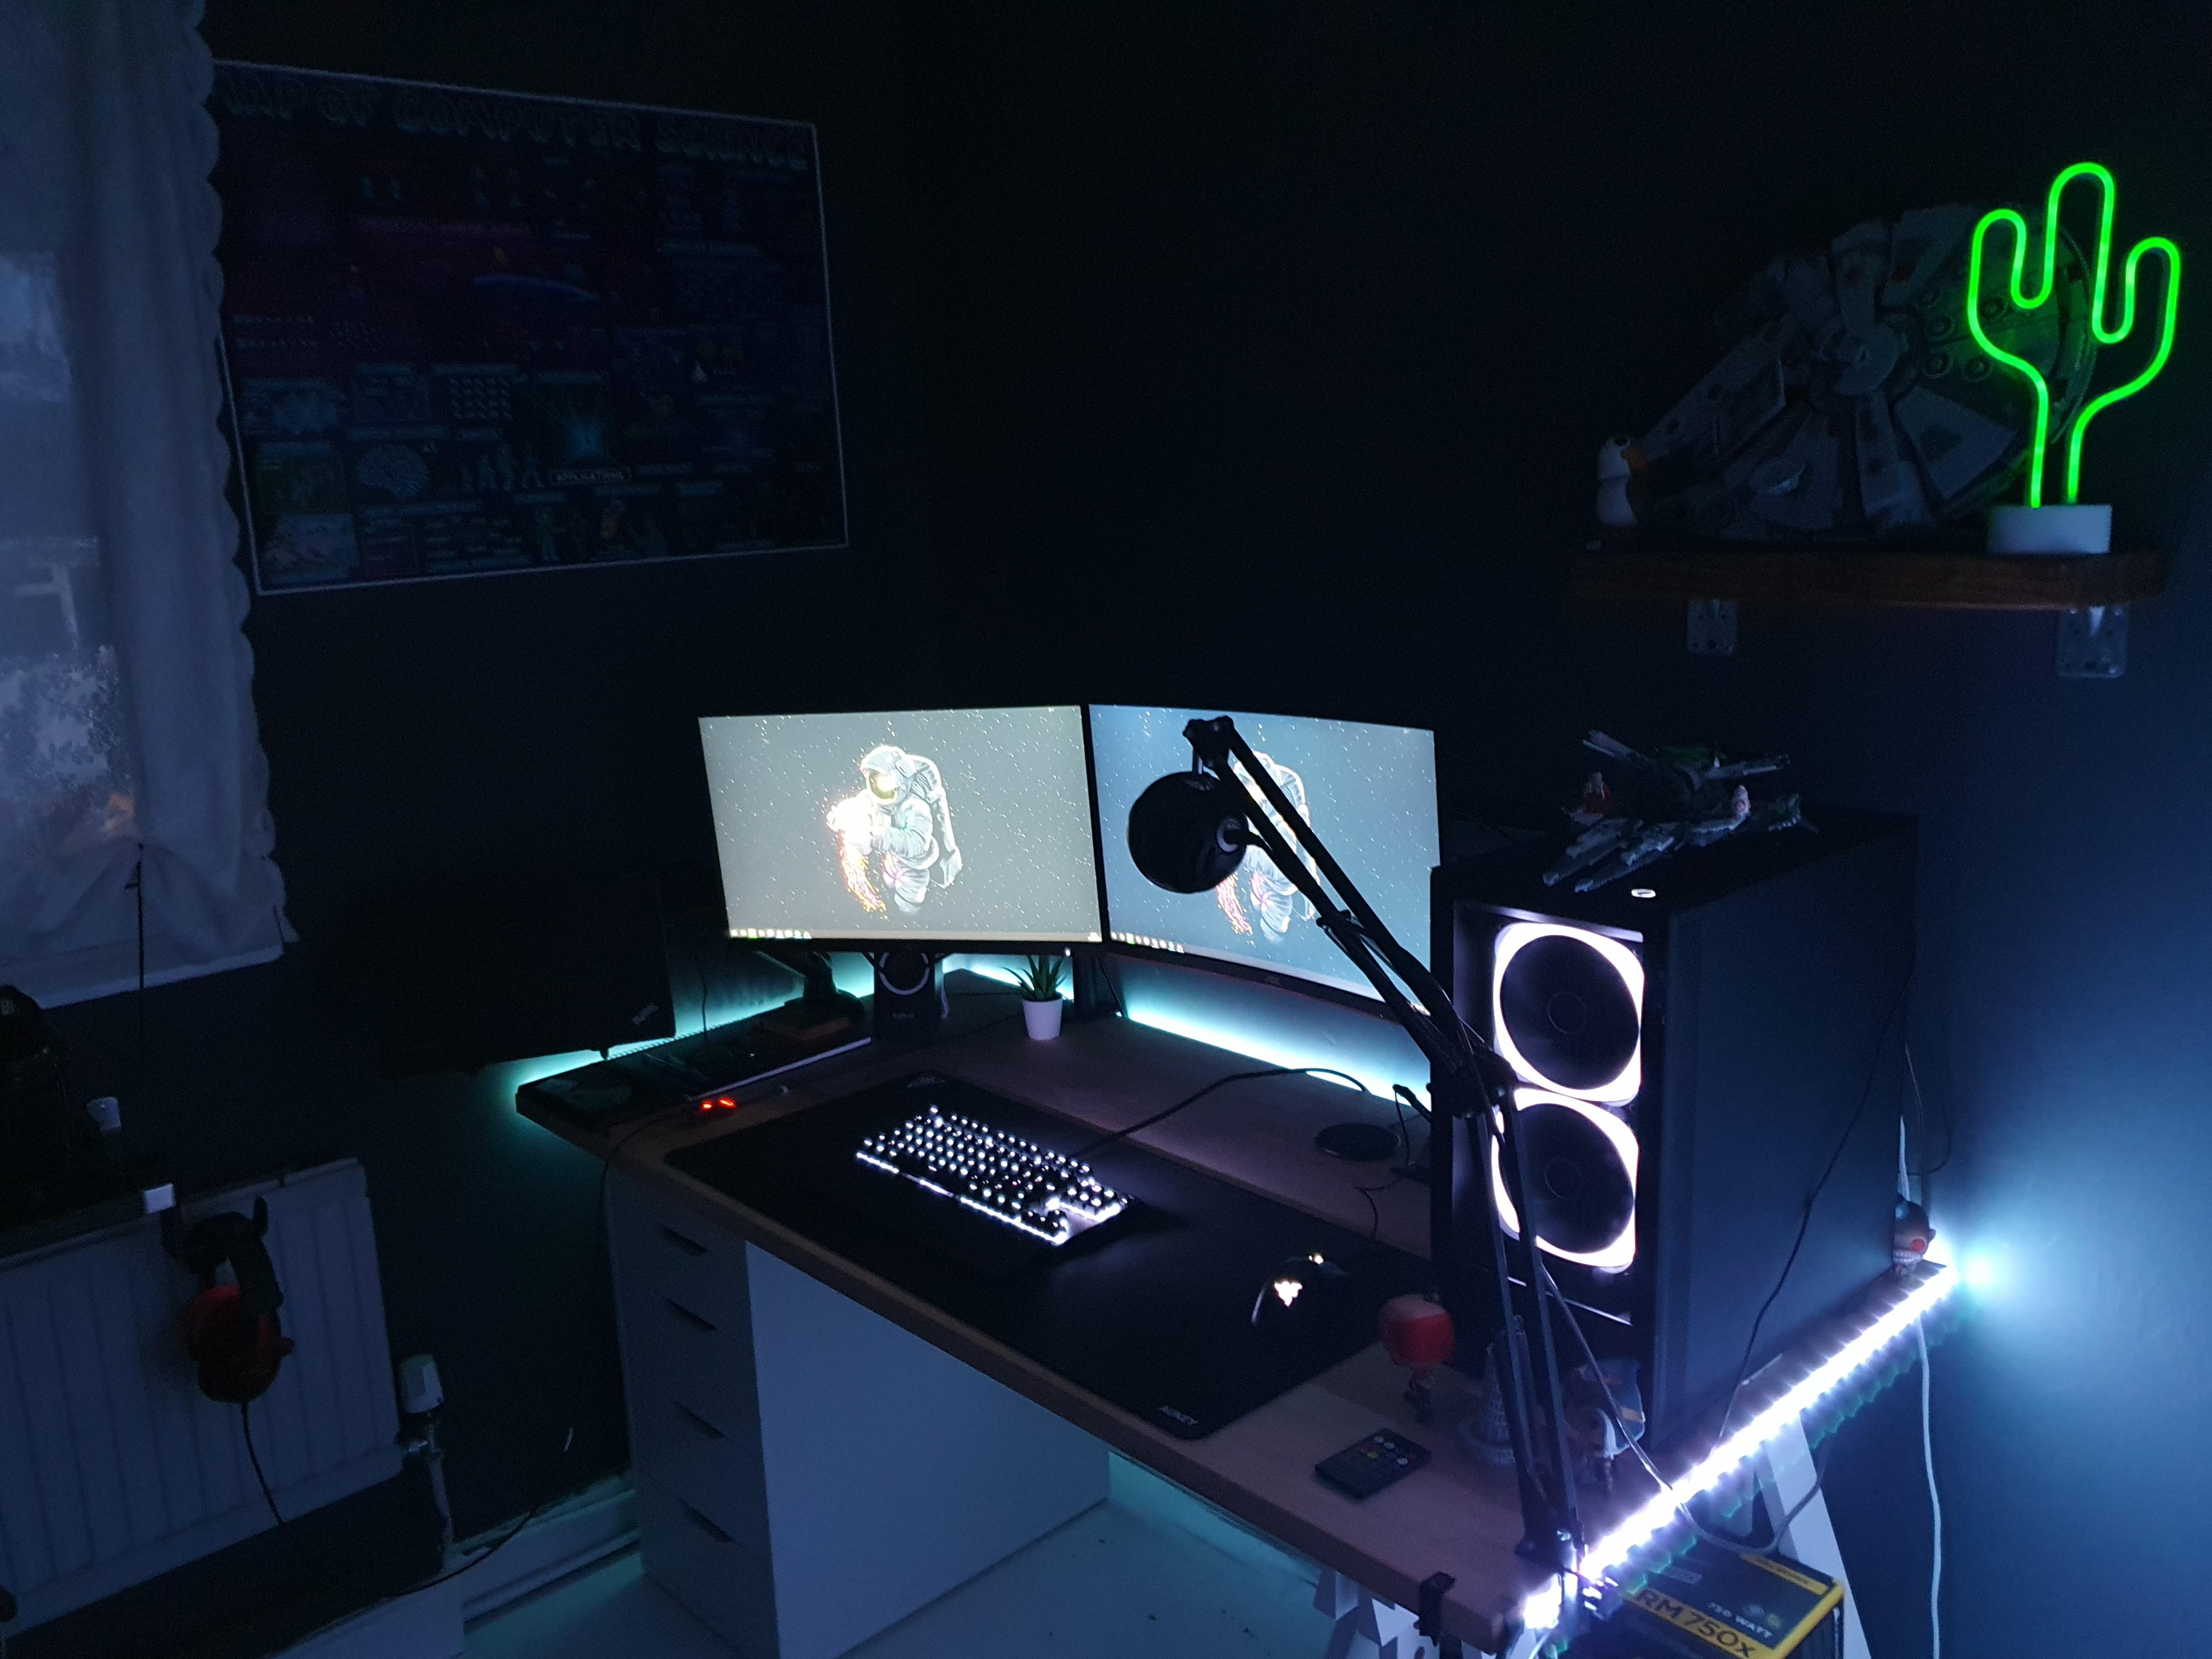Decoration (Generic): (1973, 160, 2189, 547)
Decoration (Miniature): (1588, 199, 2095, 584), (1536, 727, 1824, 897)
Decoration (Picture): (197, 51, 852, 617)
Decoration (Plant): (1005, 953, 1066, 1039)
Desk (Generic): (516, 993, 1966, 1659)
Desktop (Windows): (1432, 807, 1912, 1424)
External Microphone (with Boom Arm): (1118, 718, 1604, 1572)
External Speakers (Generic): (869, 951, 939, 1030)
Headphones: (157, 1209, 284, 1412)
Keyboard (Gaming): (880, 1080, 1101, 1290)
Laptop (Windows): (397, 875, 678, 1068)
Monitor (Landscape): (1080, 692, 1454, 1002), (695, 692, 1113, 950)
Monitor Arm: (738, 953, 867, 1051)
Mouse (Gaming): (1224, 1236, 1348, 1326)
Mousepad (Gaming): (773, 1077, 1360, 1446)
Storage Drawer: (597, 1173, 1115, 1654)
